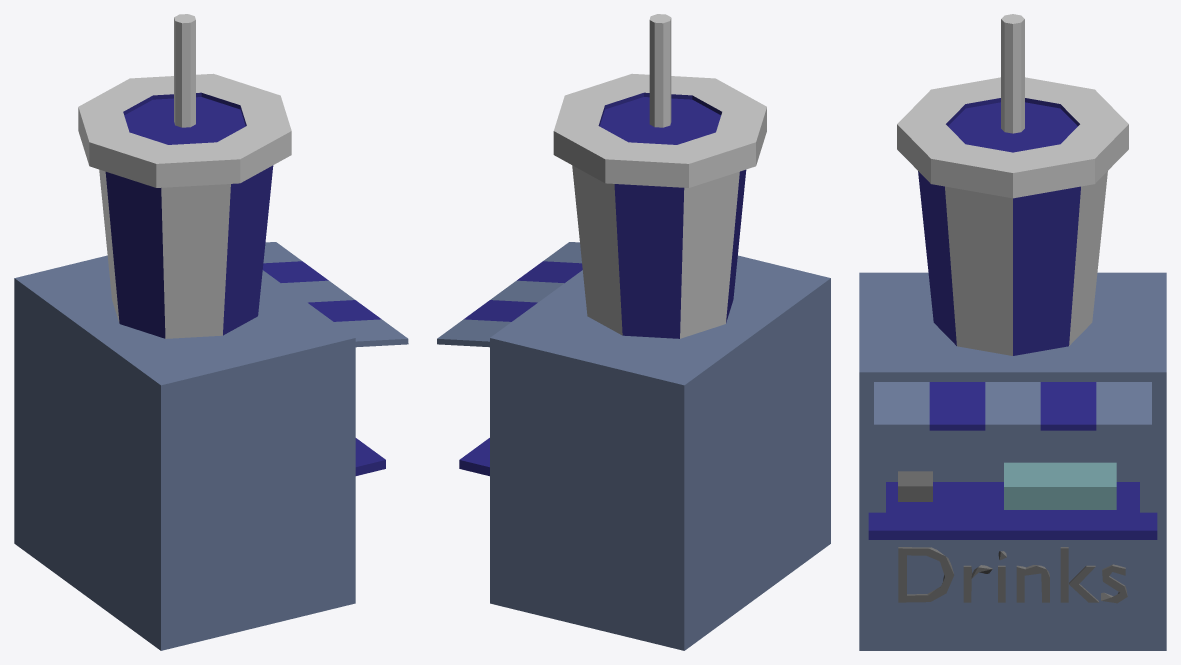
The model's file is DrinksShop.fbx.
3 renders of one model, left to right at view 1: azimuth 30°, elevation 25°; view 2: azimuth 150°, elevation 25°; view 3: azimuth 270°, elevation 25°, orthographic. The views are drawn at different scales.
Visible parts, largest first — view 1: Cube, Cylinder.001, Cube.003; view 2: Cube, Cylinder.001, Cube.003; view 3: Cube, Cylinder.001, Cube.003, Cube.001, Cube.002.
Boxes of the visible parts, left/top/right/bottom form: Cube: left=14, top=255, right=385, bottom=650; Cylinder.001: left=78, top=14, right=291, bottom=338; Cube.003: left=262, top=242, right=408, bottom=347; Cube: left=459, top=255, right=830, bottom=650; Cylinder.001: left=553, top=14, right=766, bottom=338; Cube.003: left=437, top=242, right=582, bottom=347; Cube: left=859, top=272, right=1166, bottom=650; Cylinder.001: left=897, top=14, right=1128, bottom=355; Cube.003: left=874, top=382, right=1151, bottom=430; Cube.001: left=1004, top=462, right=1116, bottom=509; Cube.002: left=898, top=471, right=932, bottom=501.
Bounding box in the file's own units: 179 × 372 × 178.
